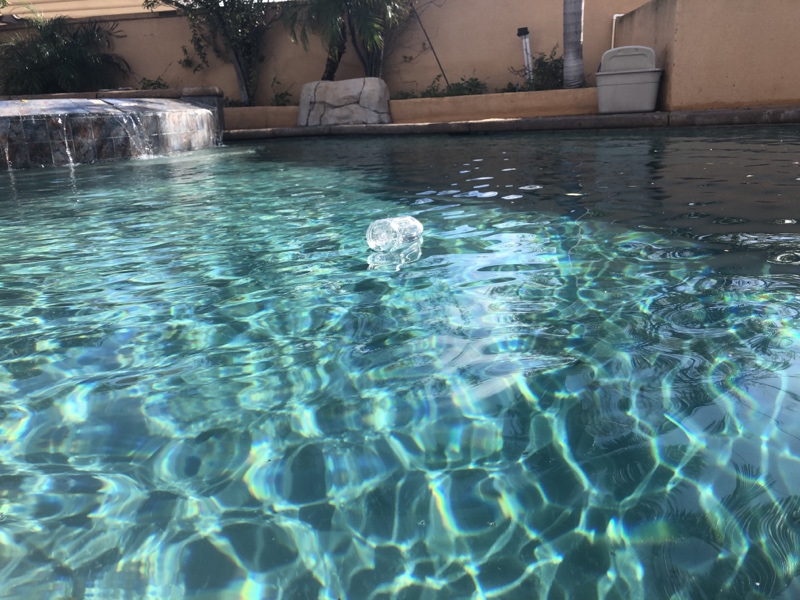Plastic Bottle: (361, 214, 432, 256)
